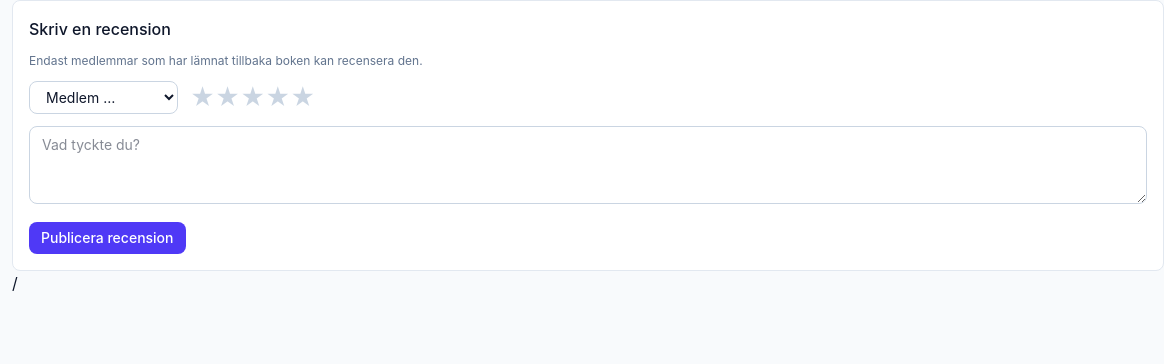
Test case: NewReviewForm › personal: väljer medlem och visar felet från backend
This screenshot has width=1164, height=364.
Select "Harper Thomas" in the dropdown at (104, 98), box [29,81,178,114]
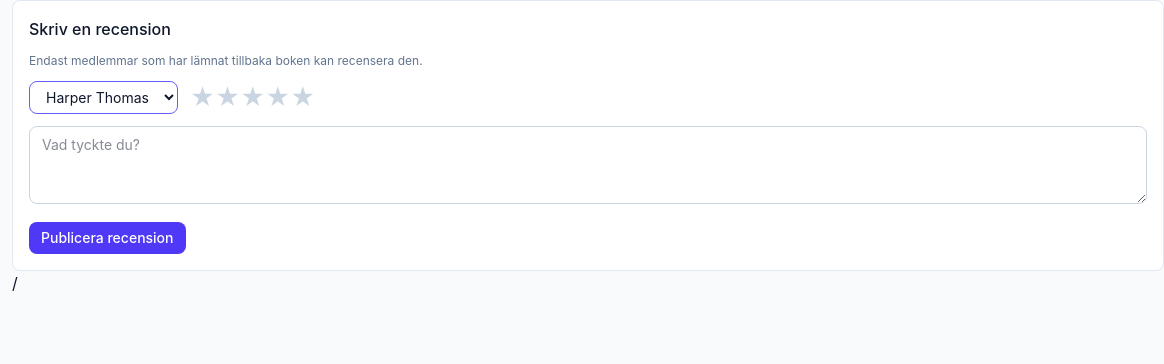
Click the button named "5 stjärnor" at (303, 98), box [290,86,315,110]
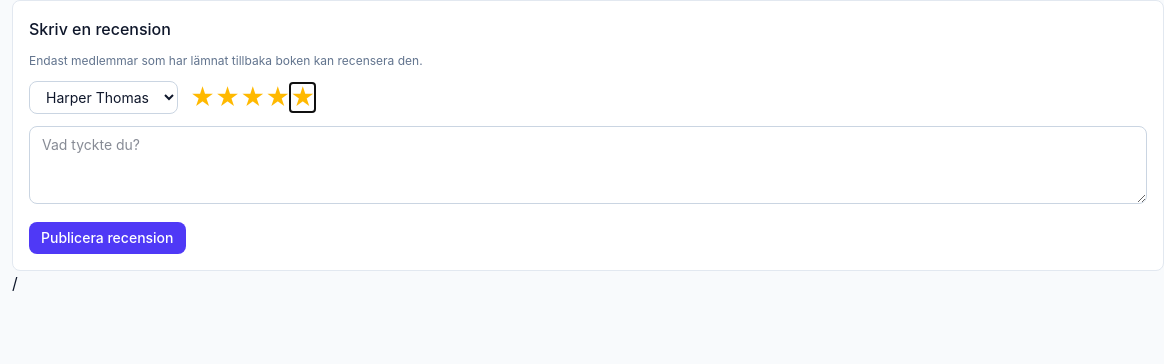
Type "En gång till" into the text box with placeholder "Vad tyckte du?" at (588, 165), box [29,126,1147,204]
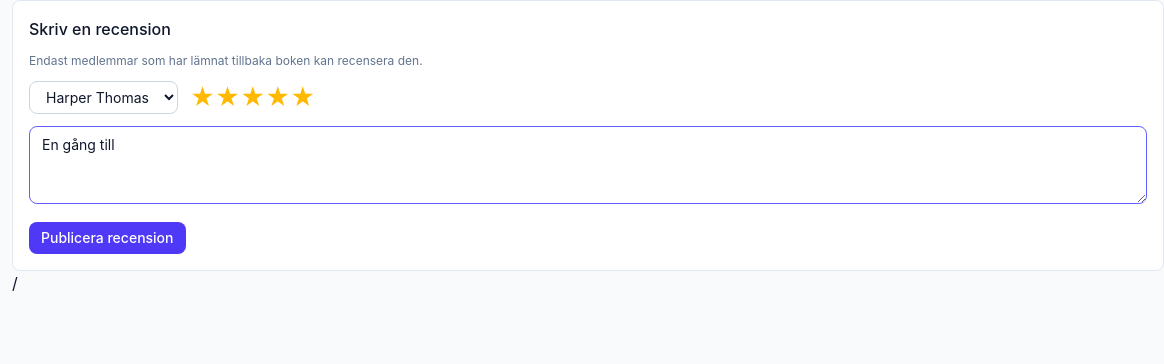
Click the button "Publicera recension" at (107, 238), box [29,222,186,254]
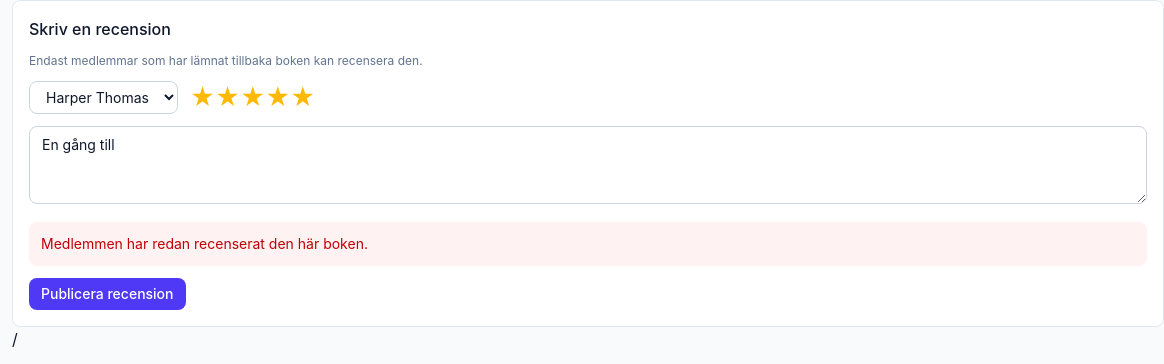
Result: the text "Medlemmen har redan recenserat den här boken." is shown at [29,222,1147,266]
